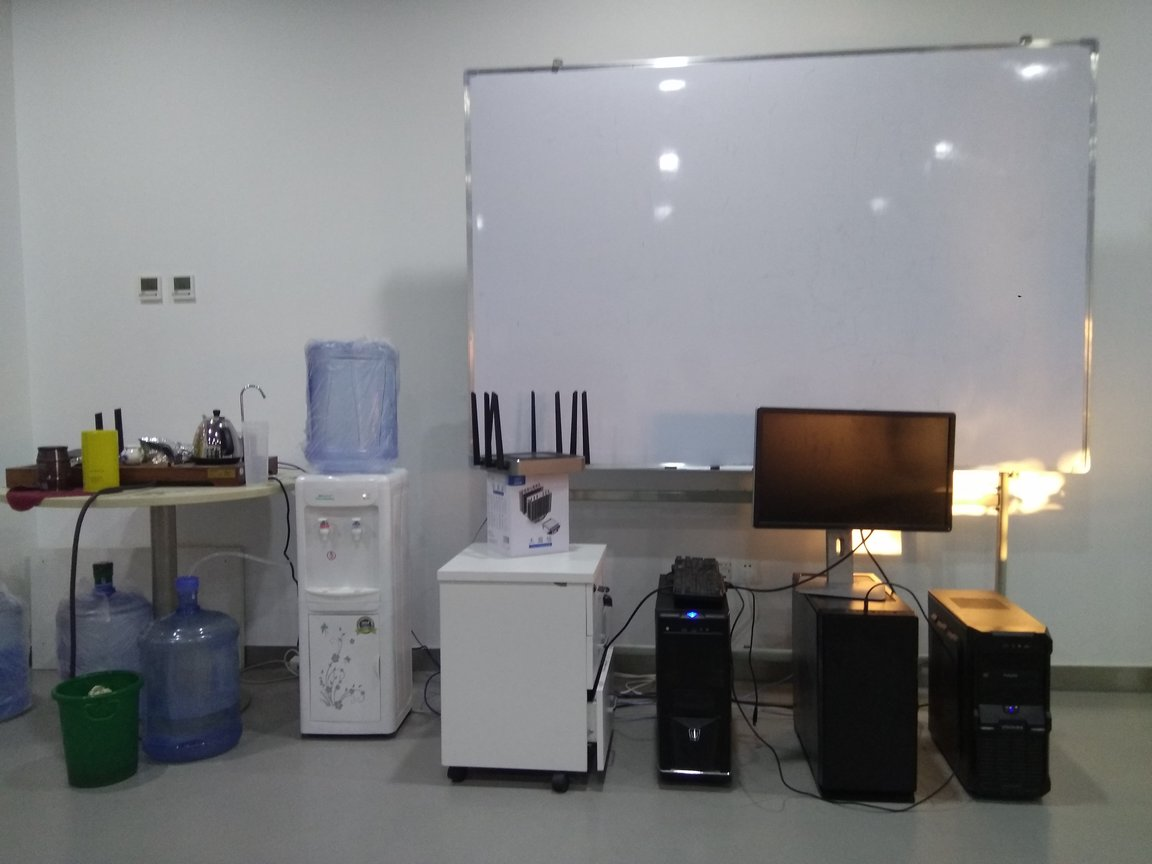computer: (789, 566, 924, 808), (928, 586, 1067, 811), (653, 571, 743, 795)
drawer chest: (432, 542, 611, 793)
monitor: (749, 404, 959, 599)
scuttlebutt: (142, 576, 241, 762), (299, 336, 412, 476), (54, 562, 150, 725), (1, 571, 41, 731)
water dispenser: (277, 455, 416, 743)
